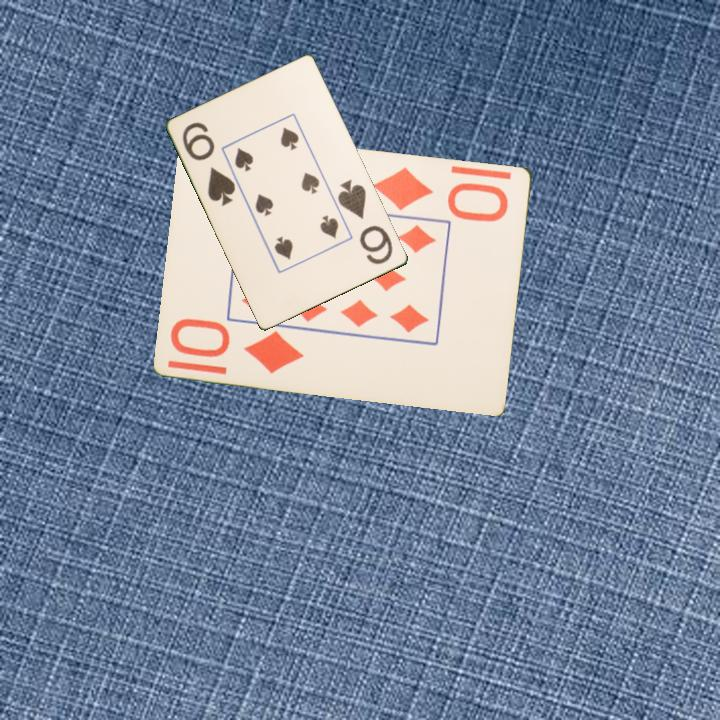10d: (369, 162, 512, 225), (167, 316, 307, 377)
6s: (334, 176, 396, 268), (179, 119, 239, 209)
